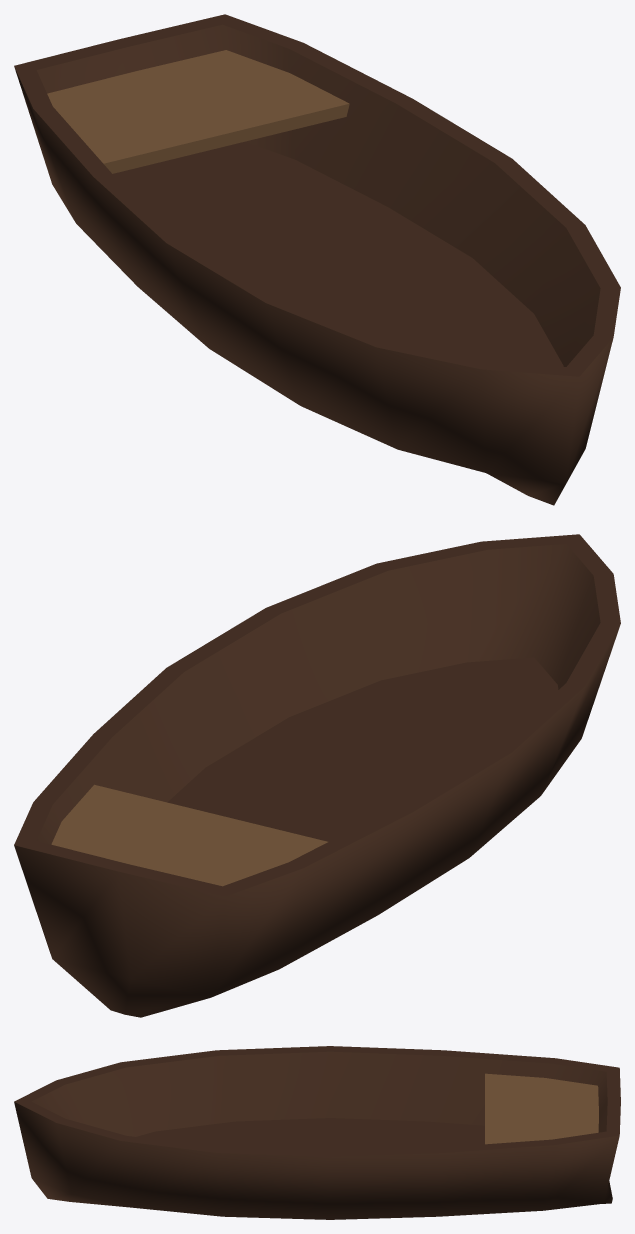
The model's file is boat.fbx.
3 renders of one model, top to bottom at view 1: azimuth 30°, elevation 25°; view 2: azimuth 150°, elevation 25°; view 3: azimuth 270°, elevation 25°, orthographic. The views are drawn at different scales.
Visible parts, largest first — view 1: Boat; view 2: Boat; view 3: Boat.
Boxes of the visible parts, <box> form: Boat: <box>14,14,620,505</box>; Boat: <box>14,534,620,1017</box>; Boat: <box>14,1046,620,1219</box>.
Size of the model in its own units: 402 by 164 by 928.
Materials: 1 (1 with a texture image).
